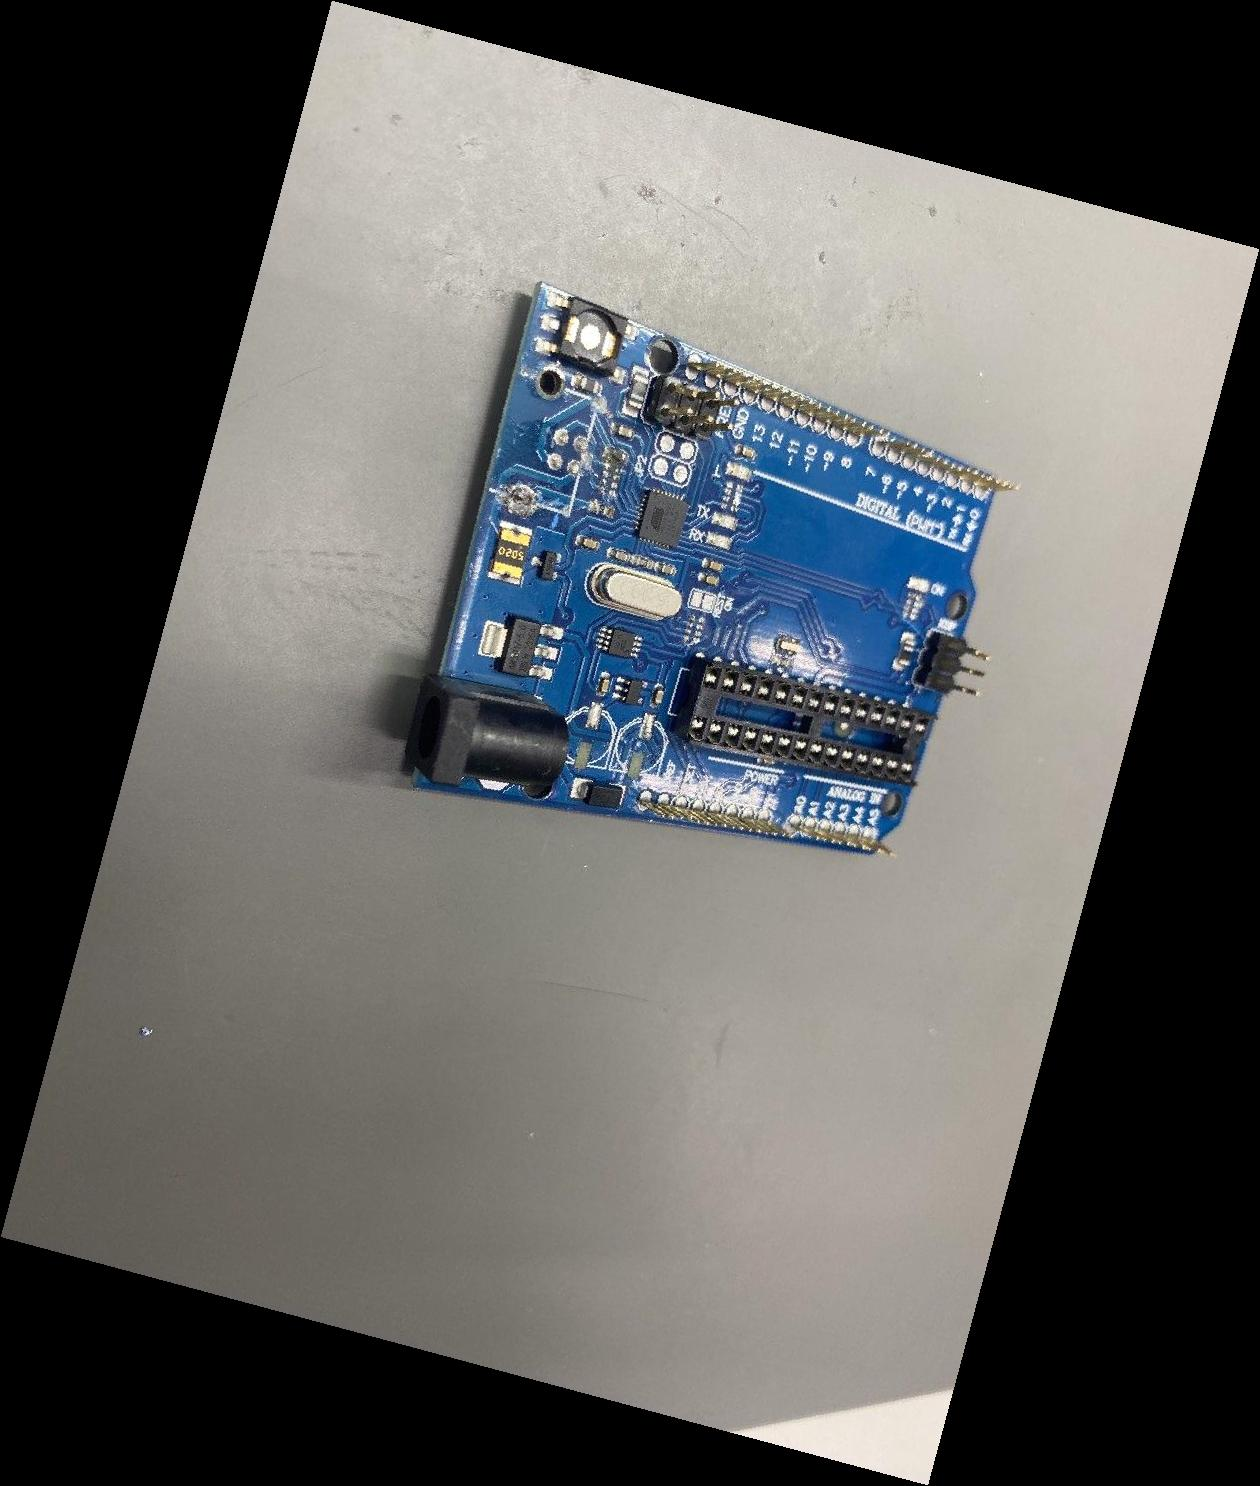Arduino board: (404, 283, 1020, 858)
